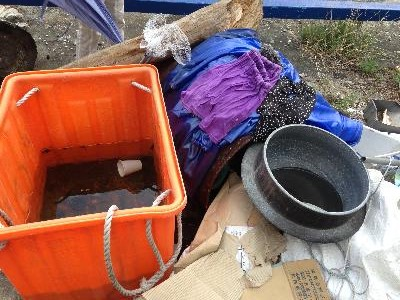bowl: (254, 120, 371, 236)
box: (1, 62, 188, 300)
